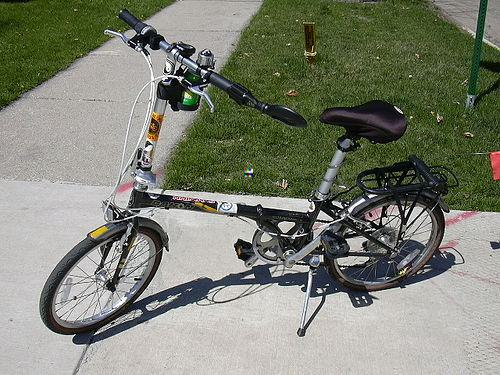car: (39, 8, 460, 338)
